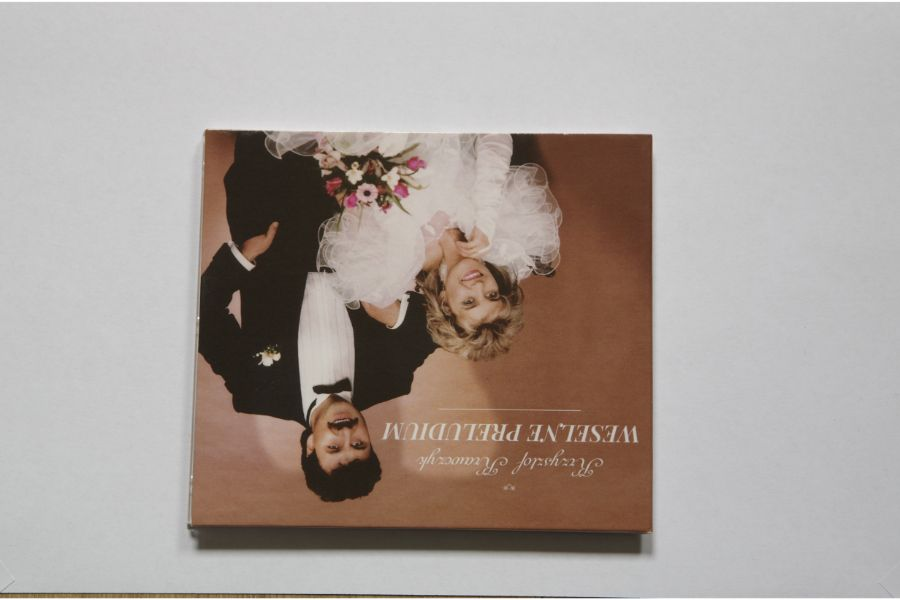album: (187, 131, 652, 534)
